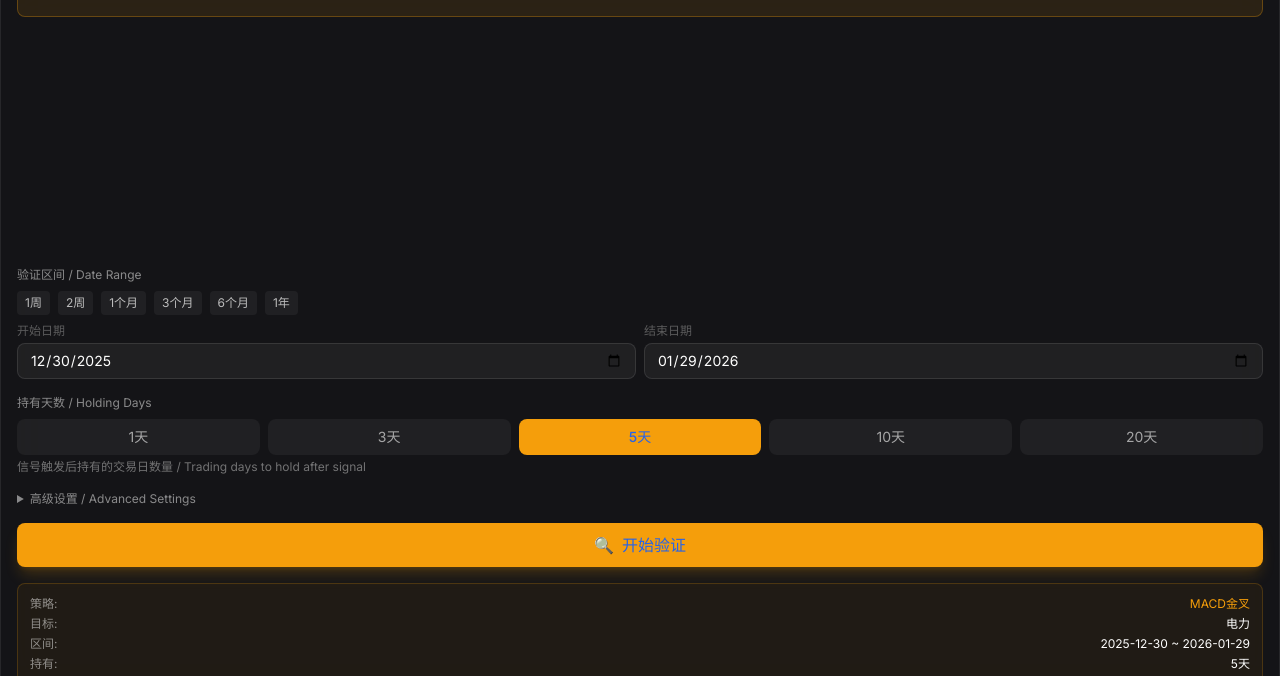
ConfigPanel › Advanced Settings › shows advanced settings when expanded
(page scrolled)
# Click to expand advanced settings
Click the heading "高级设置 / Advanced Settings" at (113, 498), box [30, 491, 196, 506]
(page scrolled)
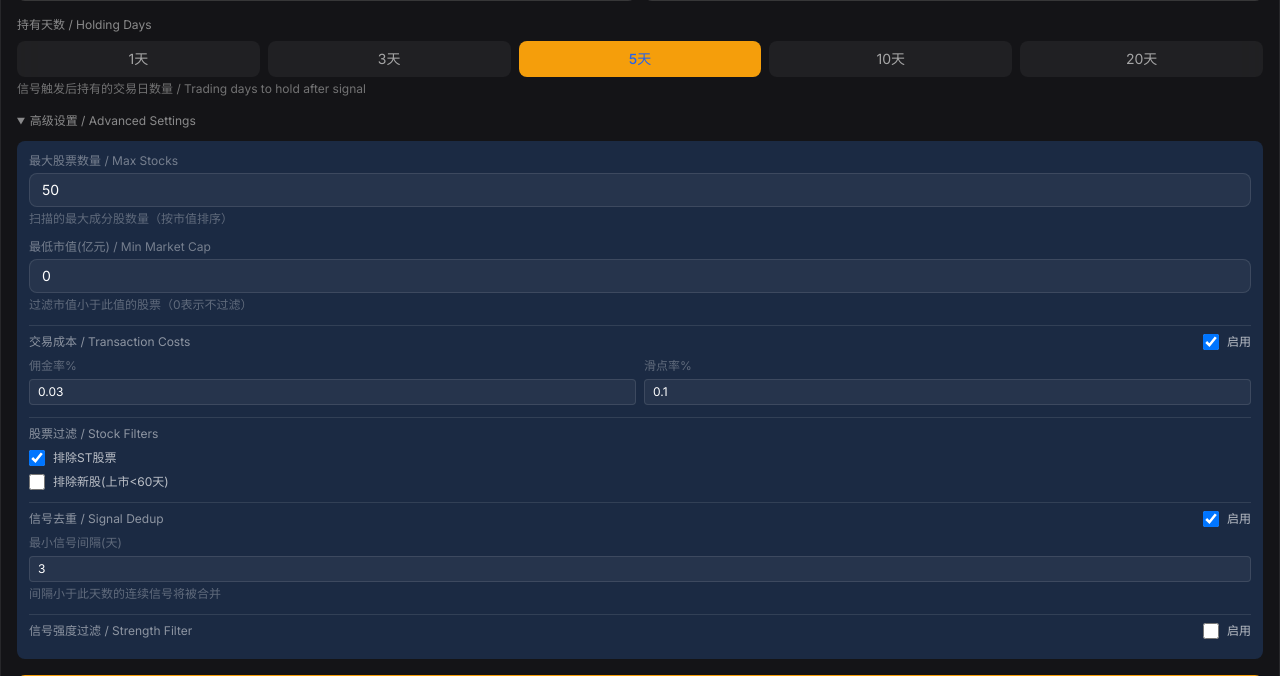
Expected: the text "最大股票数量 / Max Stocks" is shown, [29, 153, 178, 168]
Expected: the text "交易成本 / Transaction Costs" is shown, [29, 334, 190, 350]
